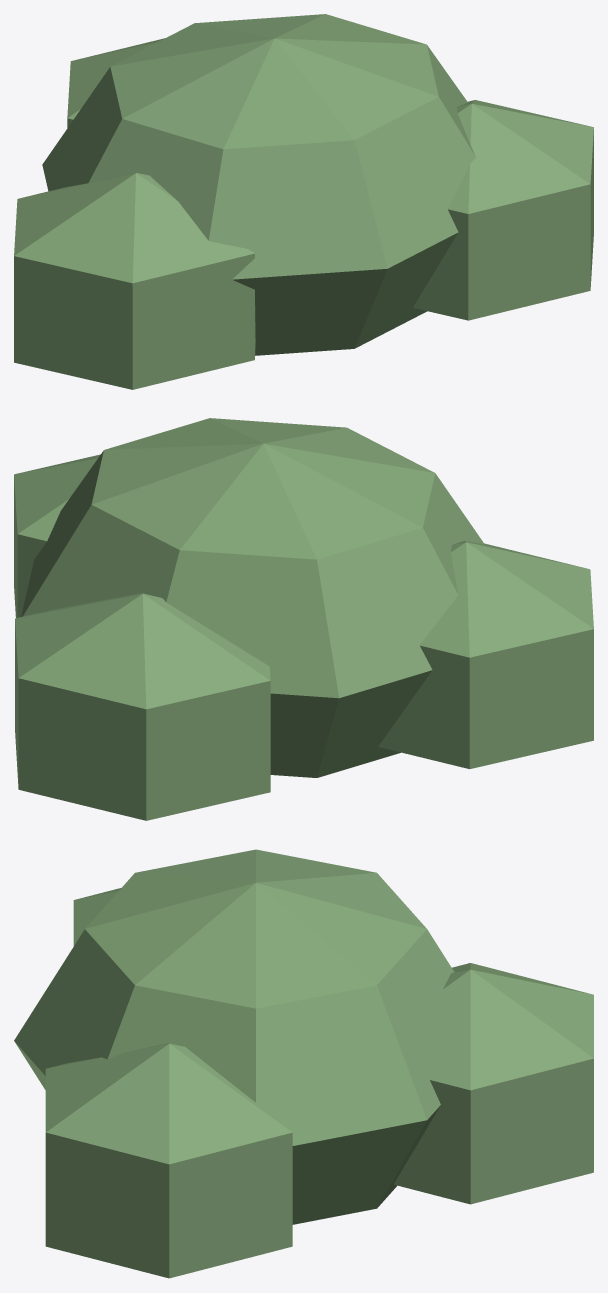
3 views of the same model, one above another, from view 1: azimuth 30°, elevation 25°; view 2: azimuth 150°, elevation 25°; view 3: azimuth 270°, elevation 25° (orthographic). The views are drawn at different scales.
Parts seen in each view (by area): view 1: SC_PlateauRhododendron; view 2: SC_PlateauRhododendron; view 3: SC_PlateauRhododendron.
Boxes of the visible parts, x1,y1,x2,y2 form: SC_PlateauRhododendron: [14, 14, 593, 389]; SC_PlateauRhododendron: [14, 418, 593, 820]; SC_PlateauRhododendron: [14, 849, 593, 1278].
Bounding box in the file's own units: 1.45 × 0.72 × 1.2.
